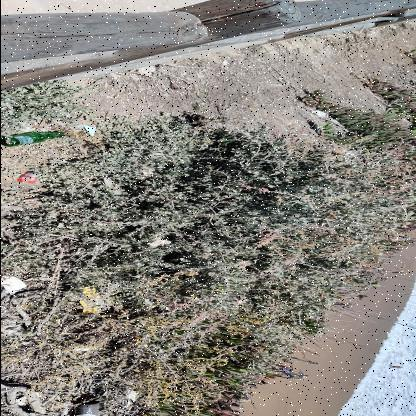glass: (0, 132, 64, 147)
